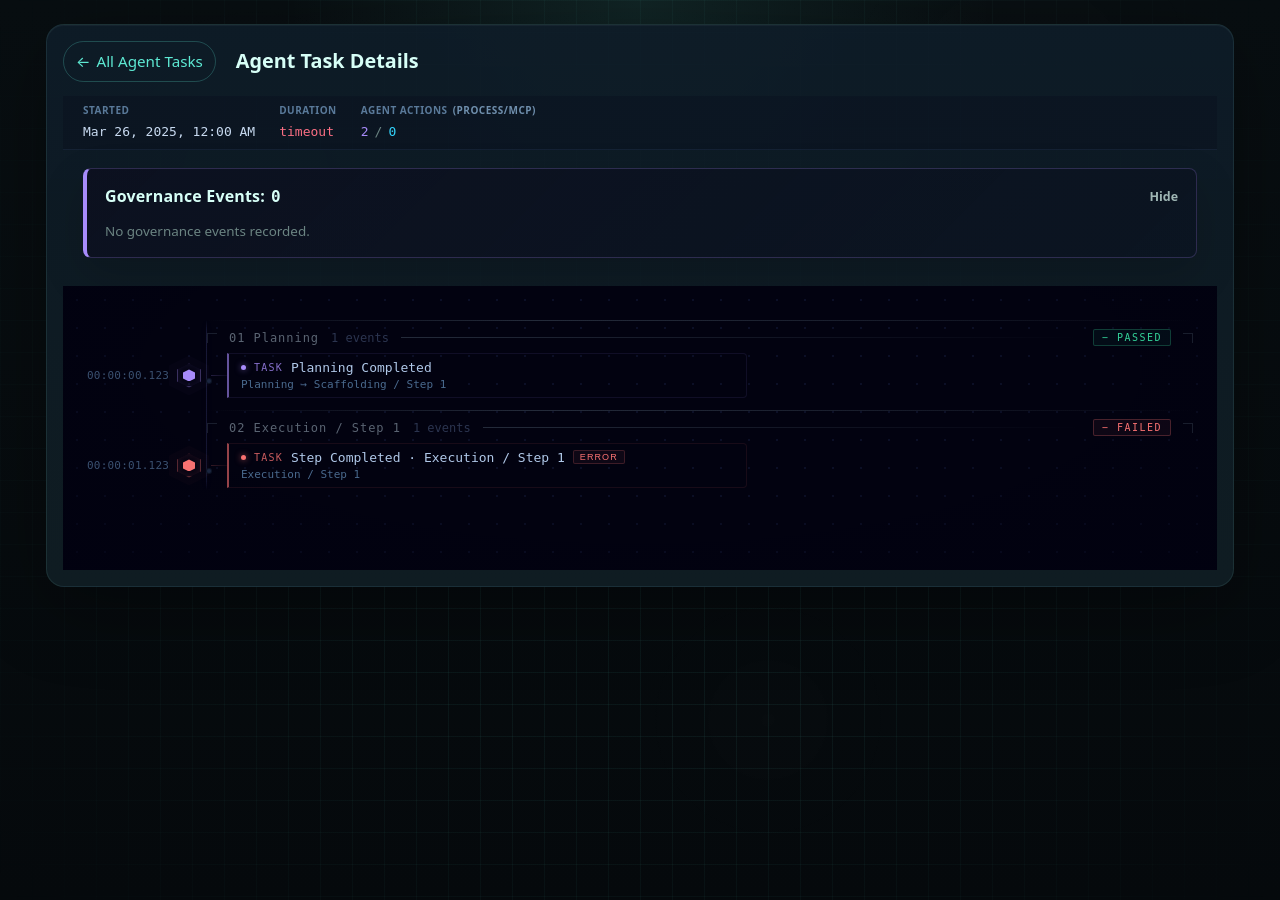
Scenario: task run detail › uses terminal inspector labels for centian task events even when payload status stays active
Expected: the heading "Agent Task Details" is shown, [236,50,419,72]
Click the button with aria-label "show event details for planning completed": (640, 376) [87,350,1193,400]
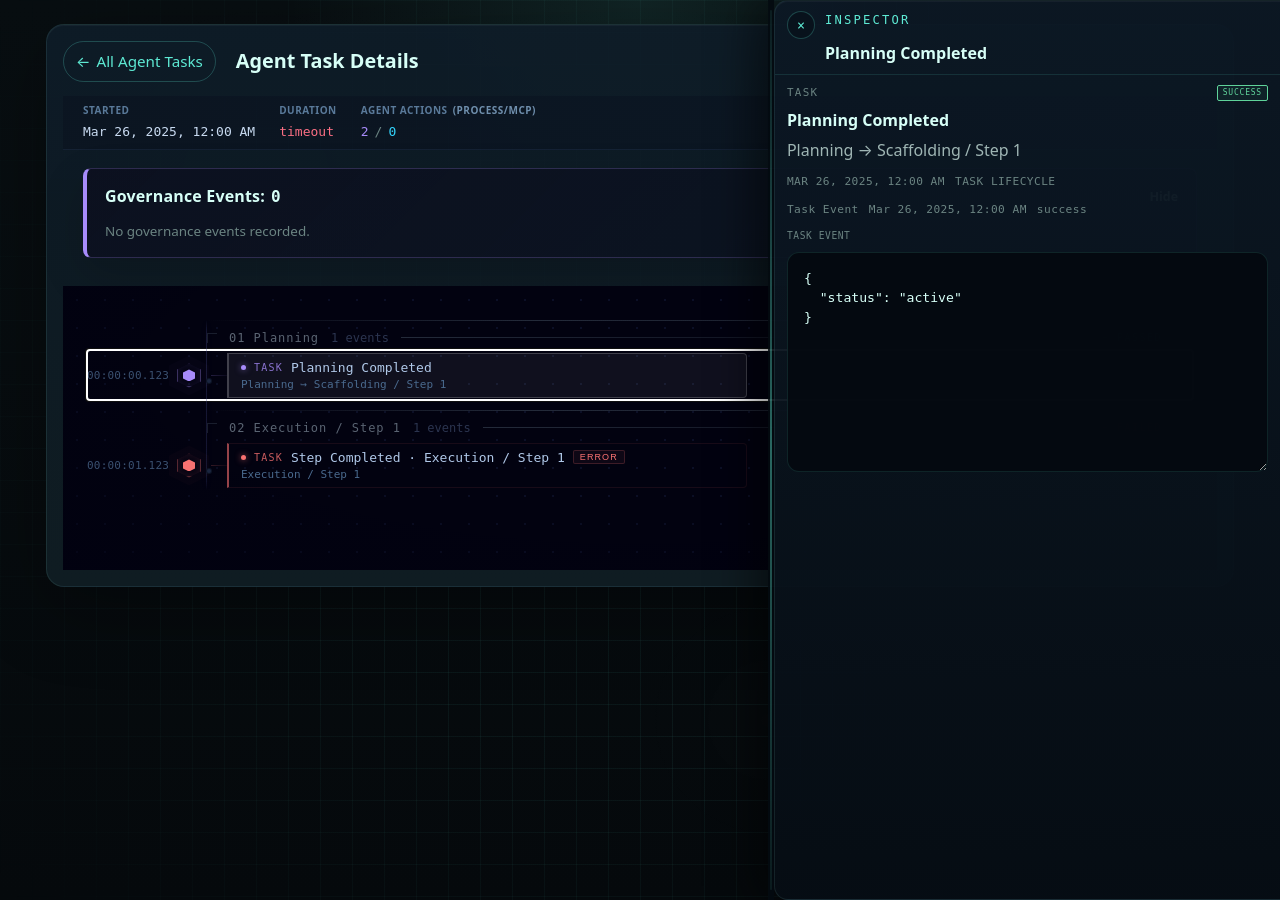
Now the text "Inspector" is shown, box [825,13,910,27]
Now the 1st text "success" is shown, box [1217,85,1268,101]
Click the button with aria-label "show event details for step completed": (640, 466) [87,440,1193,490]
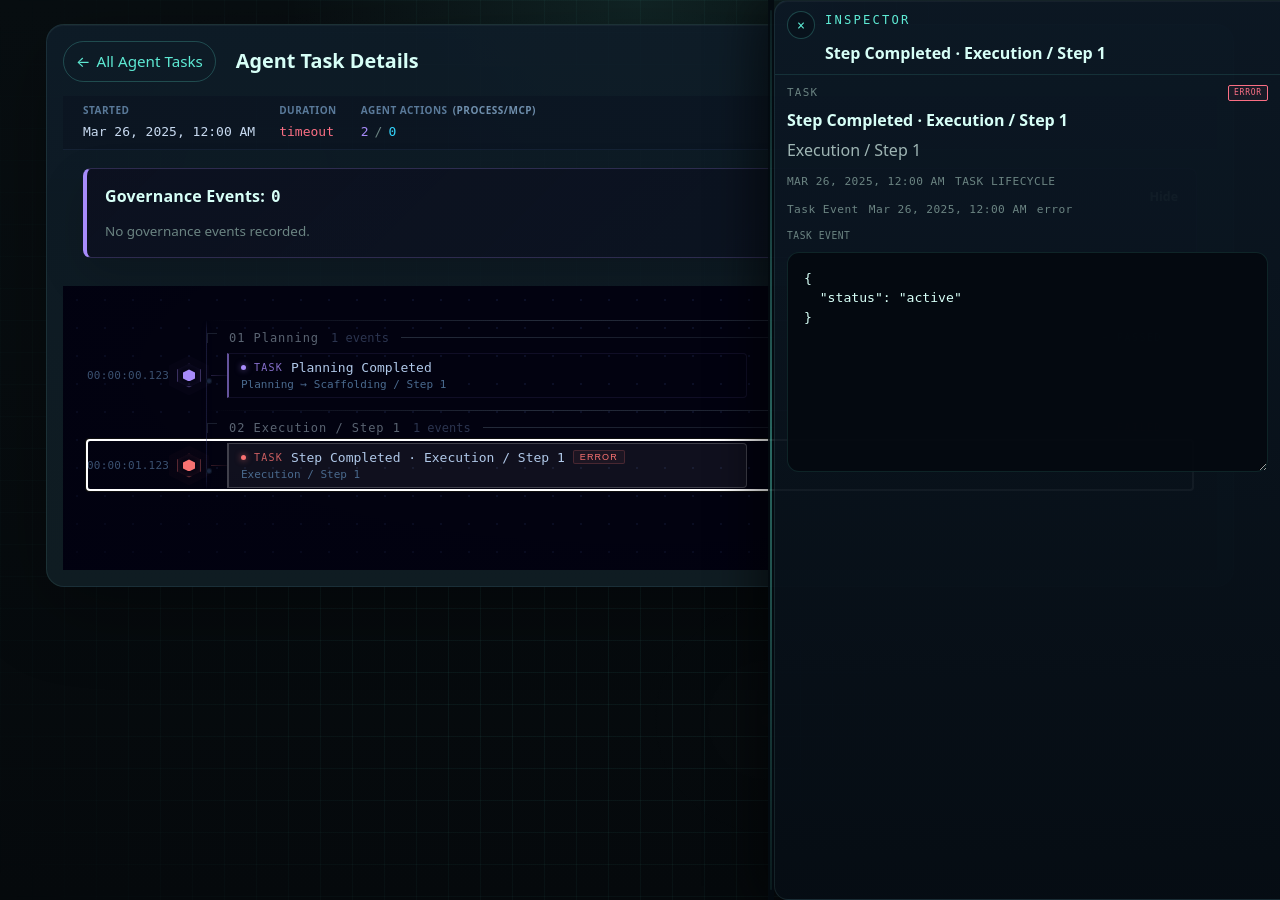
Now the 1st text "error" is shown, box [1228,85,1268,101]
